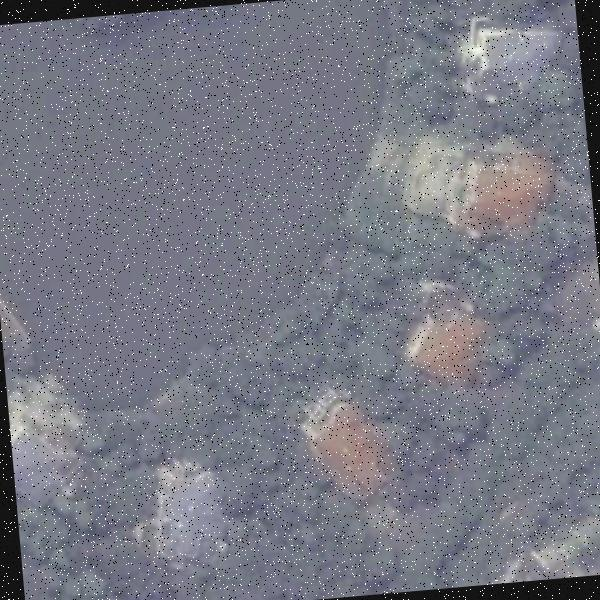Buildings: (305, 392, 378, 494), (450, 157, 544, 226), (9, 412, 69, 497), (411, 304, 480, 376), (150, 474, 215, 550), (474, 29, 546, 90)
